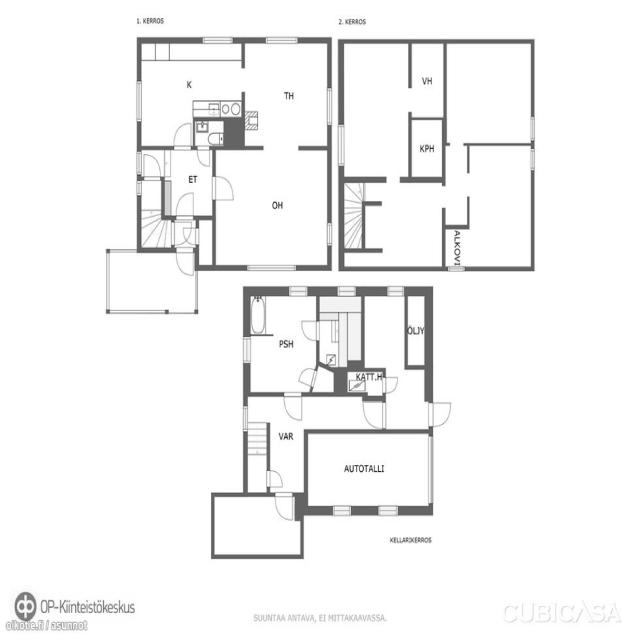door: (194, 130, 221, 166), (360, 397, 387, 429), (174, 189, 197, 223), (211, 174, 237, 204), (427, 398, 453, 428), (274, 488, 296, 522), (282, 390, 304, 423), (174, 246, 196, 278), (139, 152, 162, 182), (172, 120, 194, 150), (172, 218, 196, 245), (299, 317, 320, 344), (395, 86, 414, 114), (296, 366, 317, 390), (447, 127, 468, 151), (381, 372, 401, 396), (447, 139, 468, 160), (195, 144, 212, 169), (266, 467, 284, 489), (185, 225, 201, 247)
window: (243, 261, 306, 276), (526, 110, 538, 176), (426, 433, 435, 507), (133, 77, 145, 126), (335, 121, 347, 170), (199, 33, 237, 46), (240, 332, 254, 367), (263, 34, 301, 46), (324, 86, 334, 130), (374, 503, 403, 518), (328, 503, 356, 518), (134, 154, 143, 200), (240, 403, 250, 439), (286, 284, 311, 298), (383, 284, 408, 298), (334, 284, 358, 298), (324, 219, 334, 249), (134, 177, 143, 198), (447, 265, 467, 273)
zone: (214, 144, 328, 268), (303, 428, 432, 510), (339, 38, 411, 182), (444, 40, 533, 146), (243, 39, 328, 148), (138, 41, 244, 126), (469, 144, 534, 268), (249, 292, 318, 396), (210, 494, 300, 558), (169, 147, 213, 226), (317, 294, 363, 368), (364, 292, 406, 368), (408, 40, 446, 119), (409, 117, 444, 178), (406, 293, 426, 367), (345, 369, 385, 396), (246, 449, 268, 493), (194, 118, 227, 146), (196, 218, 214, 267)
